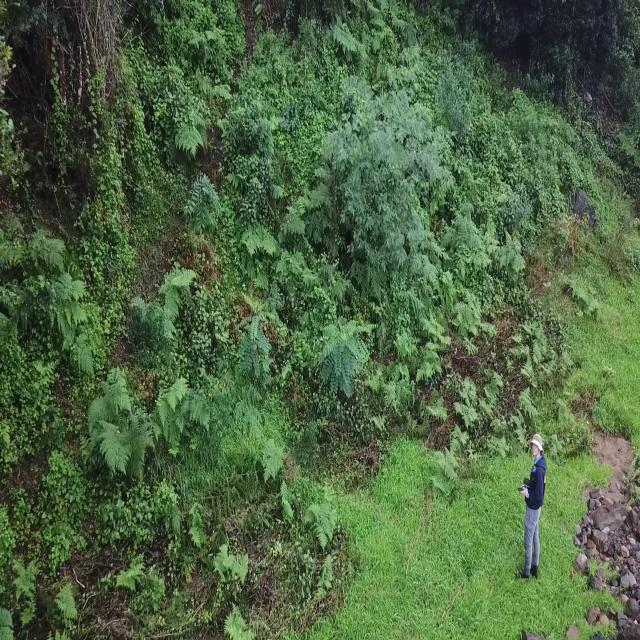Mysore-Thorn-Weed: (323, 317, 376, 394), (238, 284, 272, 378)
